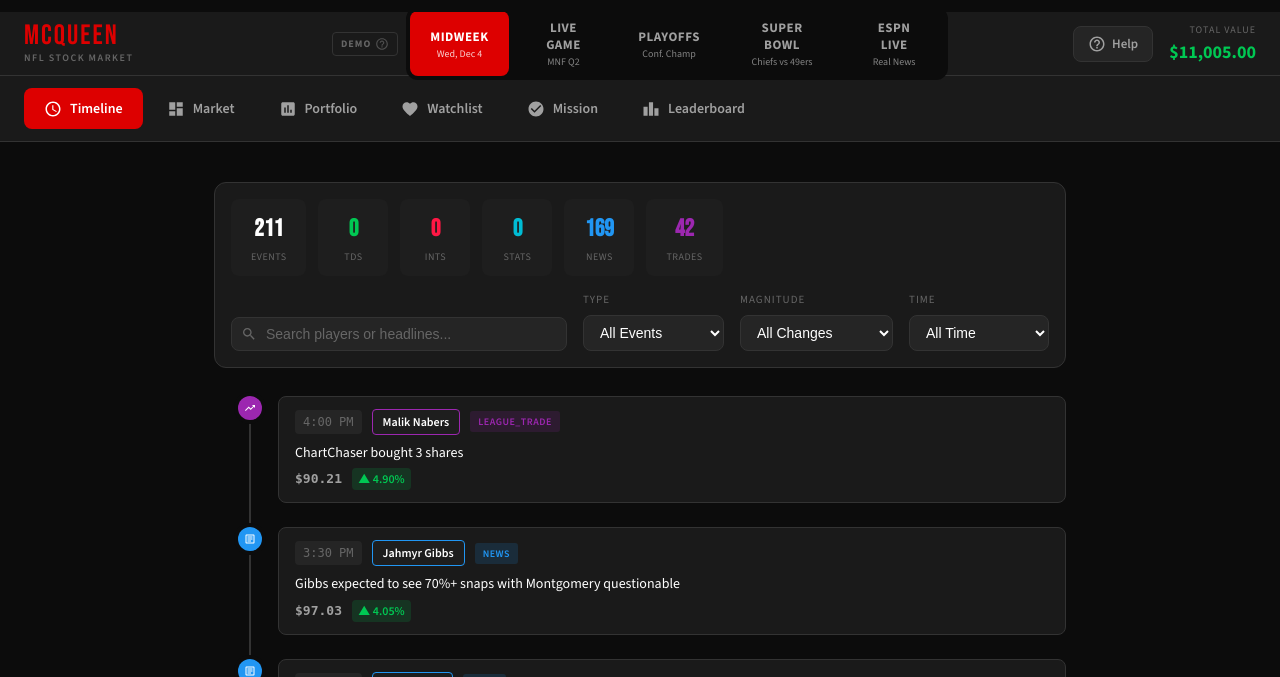
it: Timeline Page › expands and collapses an event
Click the element with test id "timeline-event" that starts with "4:00 PM": click(652, 450) [238,384,1066,516]
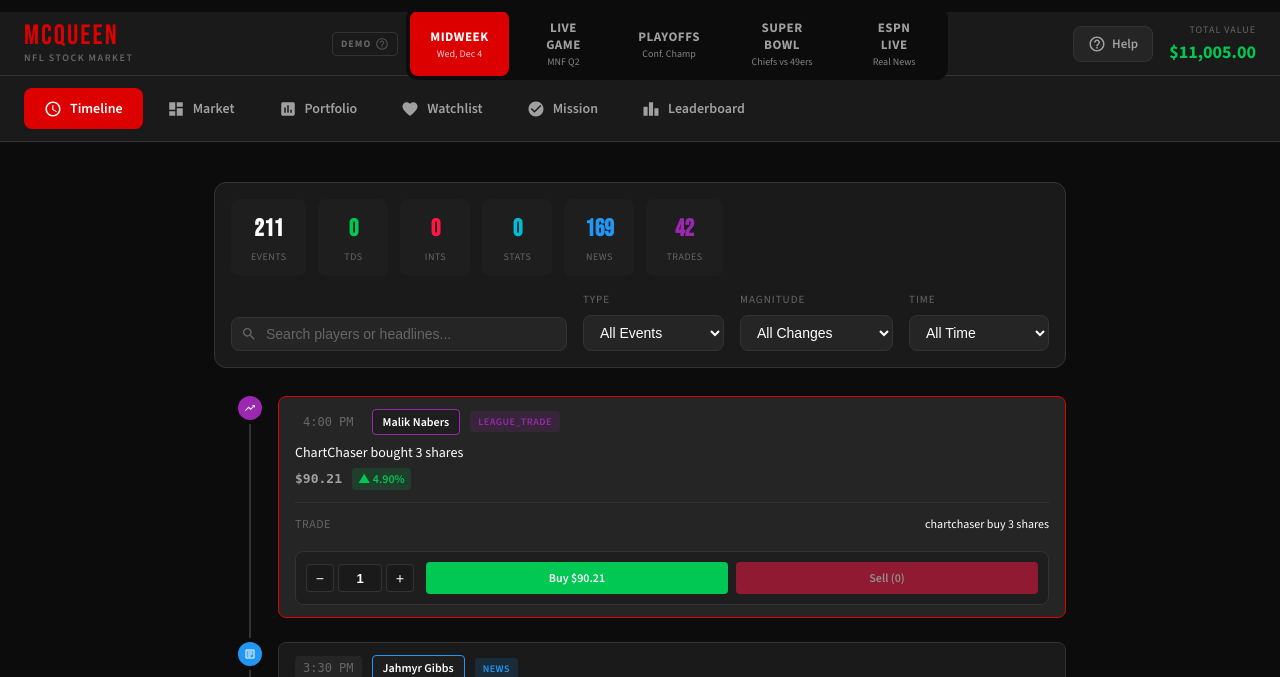
Now the element with test id "inline-trade-widget" is shown, box [295,551,1049,605]
Click the element with test id "timeline-event" that starts with "4:00 PM": click(652, 508) [238,384,1066,631]
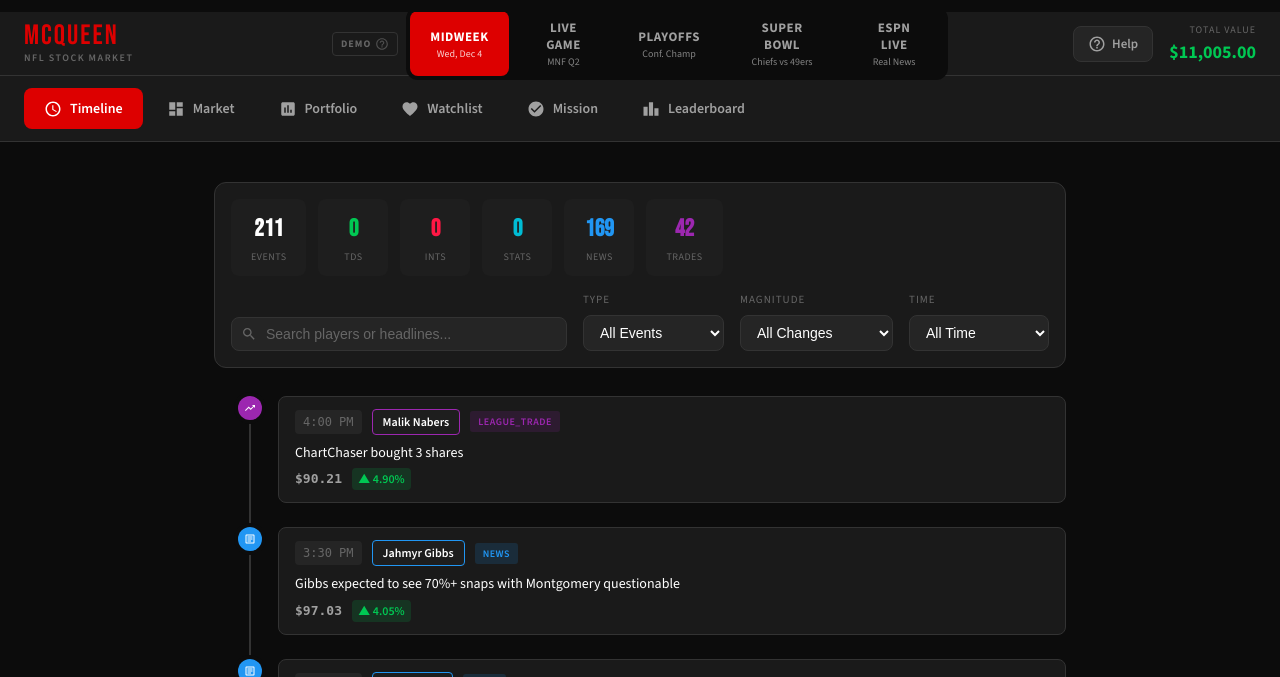
Now the element with test id "inline-trade-widget" is gone
